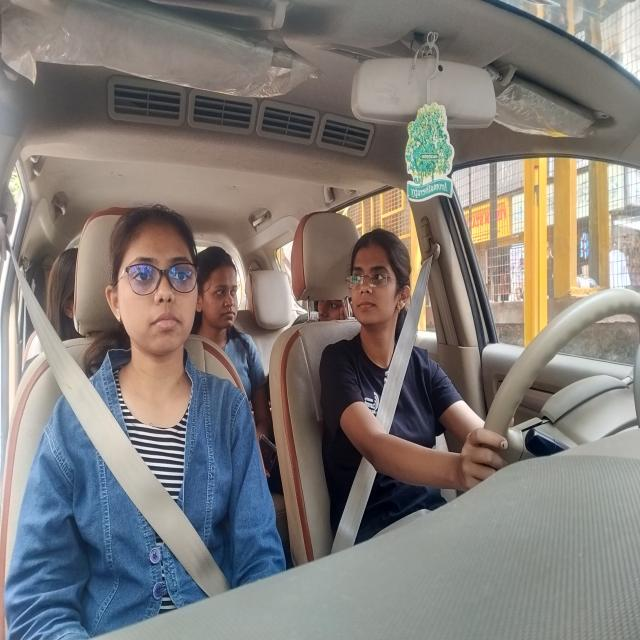LeftRight: (341, 216, 425, 379)
person: (99, 199, 206, 373), (197, 238, 249, 346)
